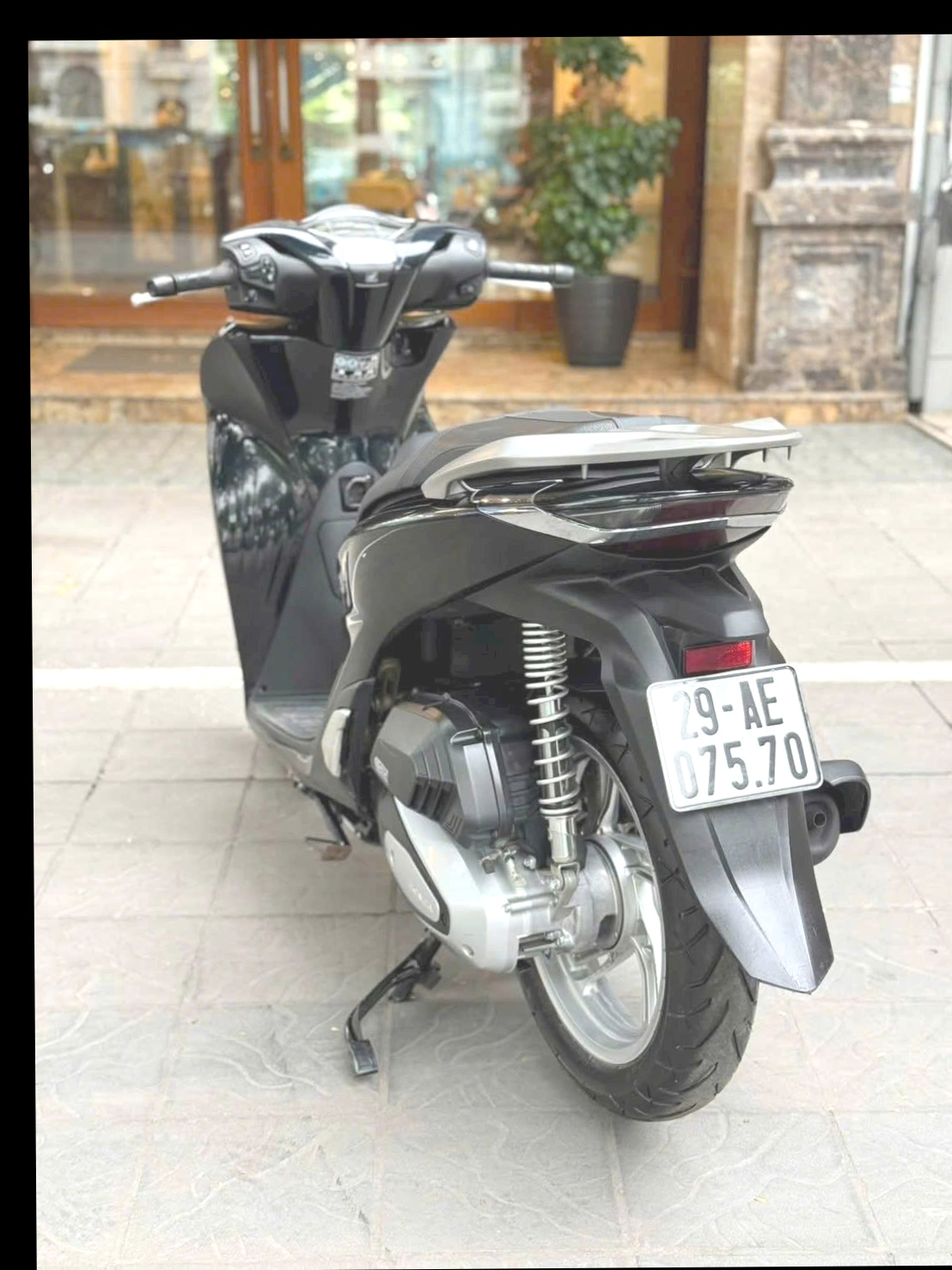Bien-so: (641, 648, 828, 805)
